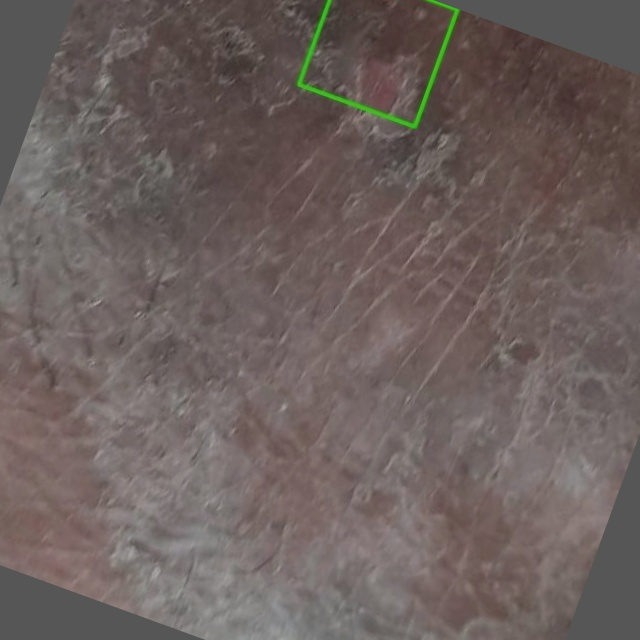Eczema: (299, 0, 457, 126)
